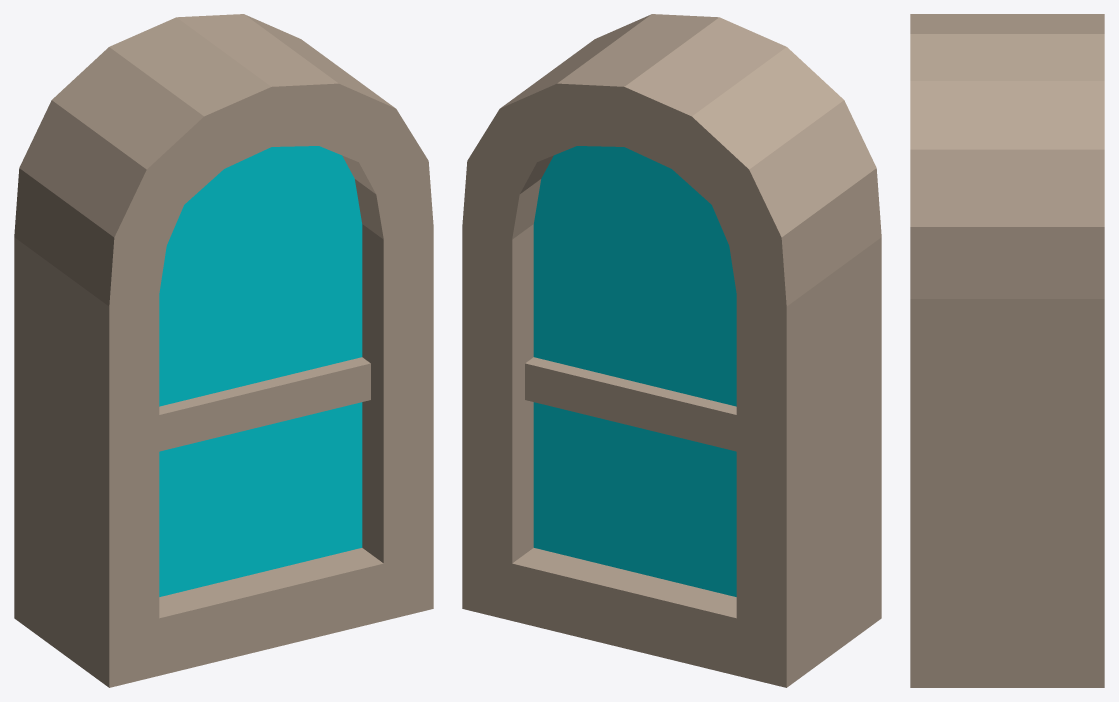
Rendered from Window.fbx.
3 views of the same model, side by side, from view 1: azimuth 30°, elevation 25°; view 2: azimuth 150°, elevation 25°; view 3: azimuth 270°, elevation 25° (orthographic). The views are drawn at different scales.
Parts seen in each view (by area): view 1: Window; view 2: Window; view 3: Window.
Boxes of the visible parts, left/top/right/bottom form: Window: left=14, top=14, right=433, bottom=687; Window: left=462, top=14, right=881, bottom=687; Window: left=910, top=14, right=1104, bottom=687.
Size of the model in its own units: 1300 by 2150 by 660.
